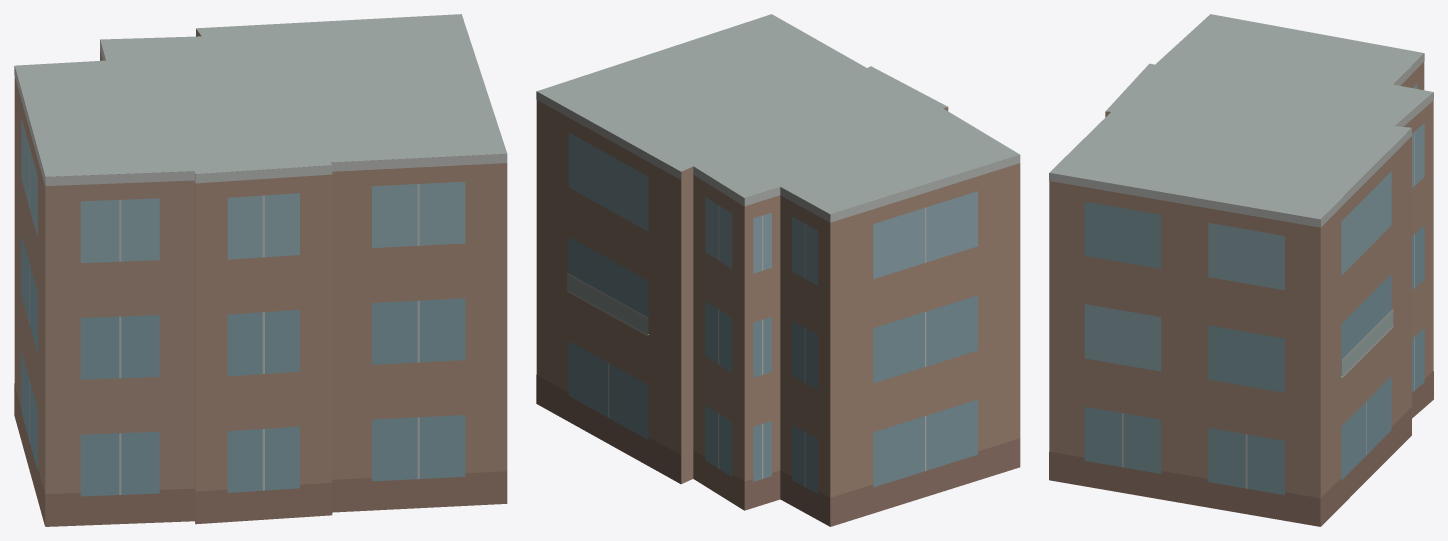
File: survey-upis-32897764.glb
The picture shows the model from 3 angles, left to right: view 1: azimuth 30°, elevation 25°; view 2: azimuth 150°, elevation 25°; view 3: azimuth 270°, elevation 25°; orthographic projection. The views are drawn at different scales.
Visible parts, largest first — view 1: survey-upis-32897764.tmp; view 2: survey-upis-32897764.tmp; view 3: survey-upis-32897764.tmp.
Boxes of the visible parts, x1,y1,x2,y2 form: survey-upis-32897764.tmp: (14,14,507,526); survey-upis-32897764.tmp: (536,14,1020,526); survey-upis-32897764.tmp: (1049,14,1433,526).
Bounding box in the file's own units: 13.12 × 9.15 × 10.38.
